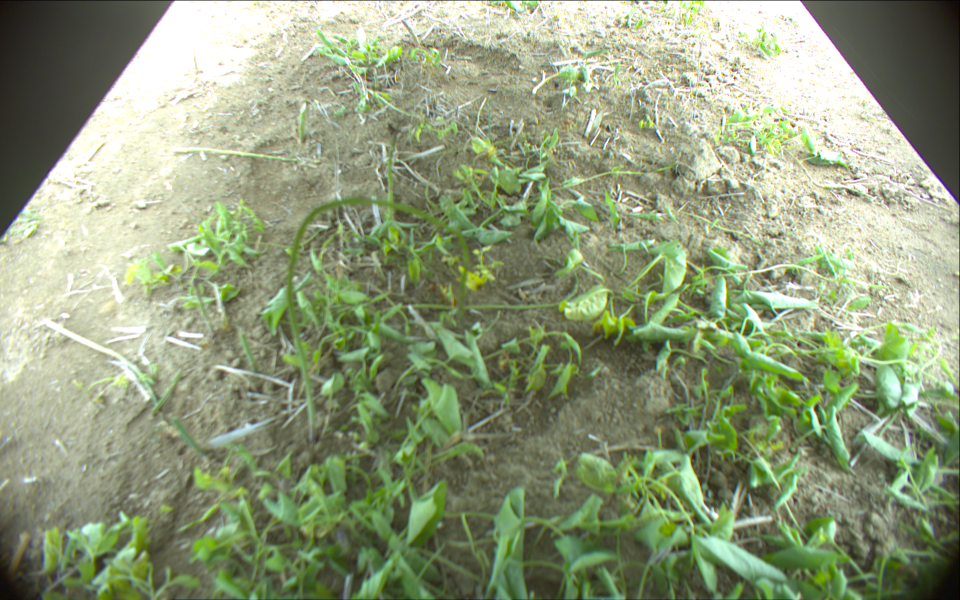aspa: (288, 195, 471, 442), (43, 318, 166, 418), (532, 54, 623, 95), (176, 144, 318, 164), (386, 125, 400, 224), (239, 325, 260, 375), (193, 276, 213, 328), (401, 21, 421, 48), (296, 101, 308, 140)
